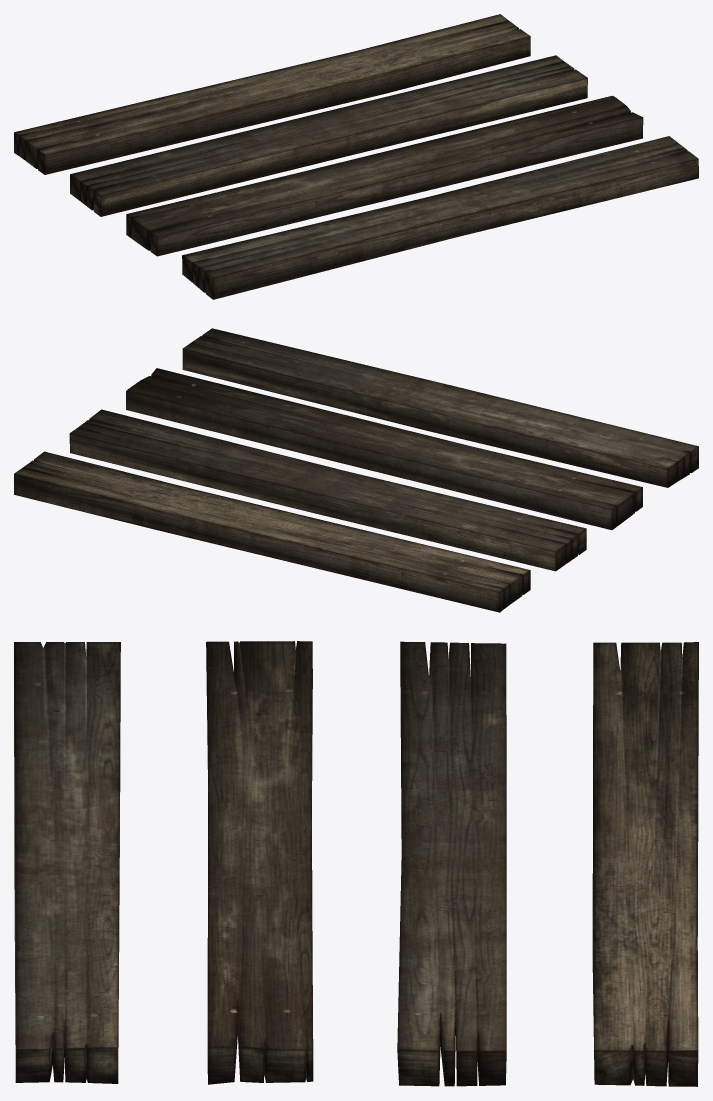
The model's file is planches_-_planks.glb.
The picture shows the model from 3 angles, top to bottom: view 1: azimuth 30°, elevation 25°; view 2: azimuth 150°, elevation 25°; view 3: azimuth 270°, elevation 25°; orthographic projection. The views are drawn at different scales.
Visible parts, largest first — view 1: Planche_low.006, Planche_low.007, Planche_low.005, Planche_low; view 2: Planche_low.006, Planche_low, Planche_low.007, Planche_low.005; view 3: Planche_low.006, Planche_low.007, Planche_low, Planche_low.005.
Part boxes in pixels (bbox=[...]): Planche_low.006: bbox=[70, 55, 587, 216]; Planche_low.007: bbox=[14, 14, 530, 174]; Planche_low.005: bbox=[126, 95, 643, 256]; Planche_low: bbox=[182, 136, 698, 299]; Planche_low.006: bbox=[69, 409, 586, 571]; Planche_low: bbox=[182, 328, 698, 487]; Planche_low.007: bbox=[14, 451, 530, 612]; Planche_low.005: bbox=[126, 368, 642, 530]; Planche_low.006: bbox=[397, 641, 506, 1086]; Planche_low.007: bbox=[592, 642, 698, 1086]; Planche_low: bbox=[14, 642, 120, 1083]; Planche_low.005: bbox=[206, 641, 313, 1084].
Size of the model in its own units: 200 by 9.18 by 142.
Materials: 1 (1 with a texture image).
